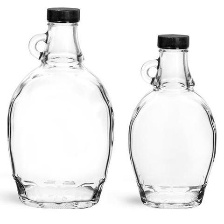bottle: (5, 4, 118, 211), (124, 24, 221, 211)
